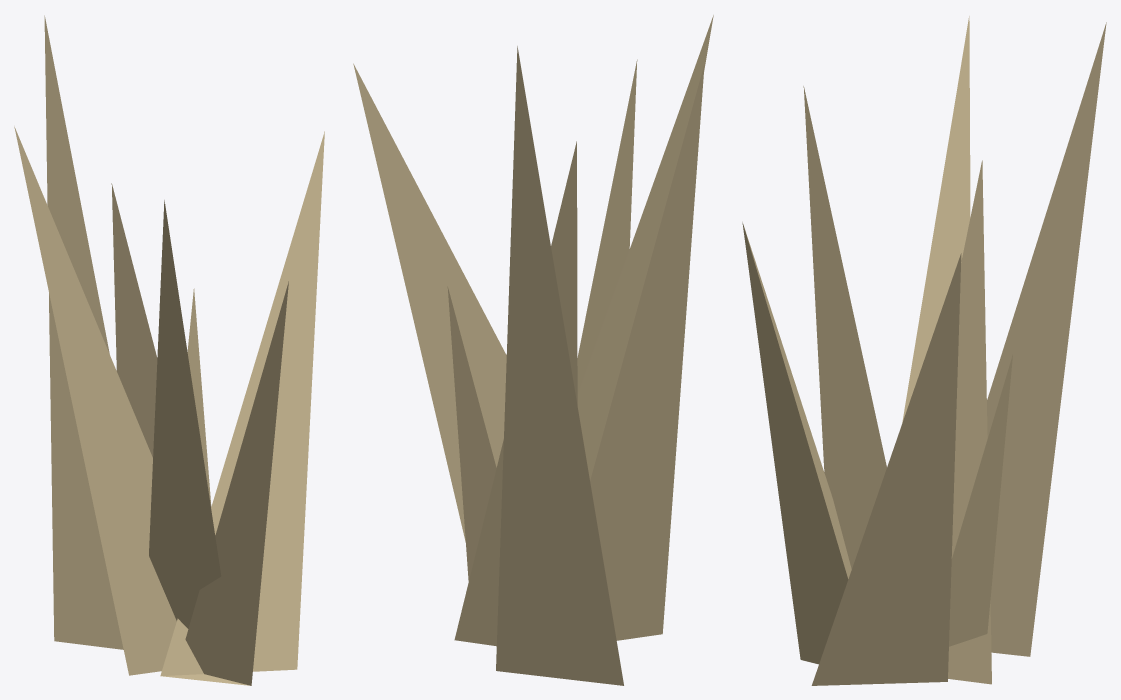
The model's file is DriedGrassA.fbx.
The picture shows the model from 3 angles, left to right: view 1: azimuth 30°, elevation 25°; view 2: azimuth 150°, elevation 25°; view 3: azimuth 270°, elevation 25°; orthographic projection. The views are drawn at different scales.
Visible parts, largest first — view 1: Cone.001; view 2: Cone.001; view 3: Cone.001.
Part boxes in pixels (box(x1,y1,x2,y2)): Cone.001: box(14, 15, 324, 685); Cone.001: box(353, 15, 713, 685); Cone.001: box(742, 16, 1106, 685).
Size of the model in its own units: 38.61 by 69.68 by 37.88.
